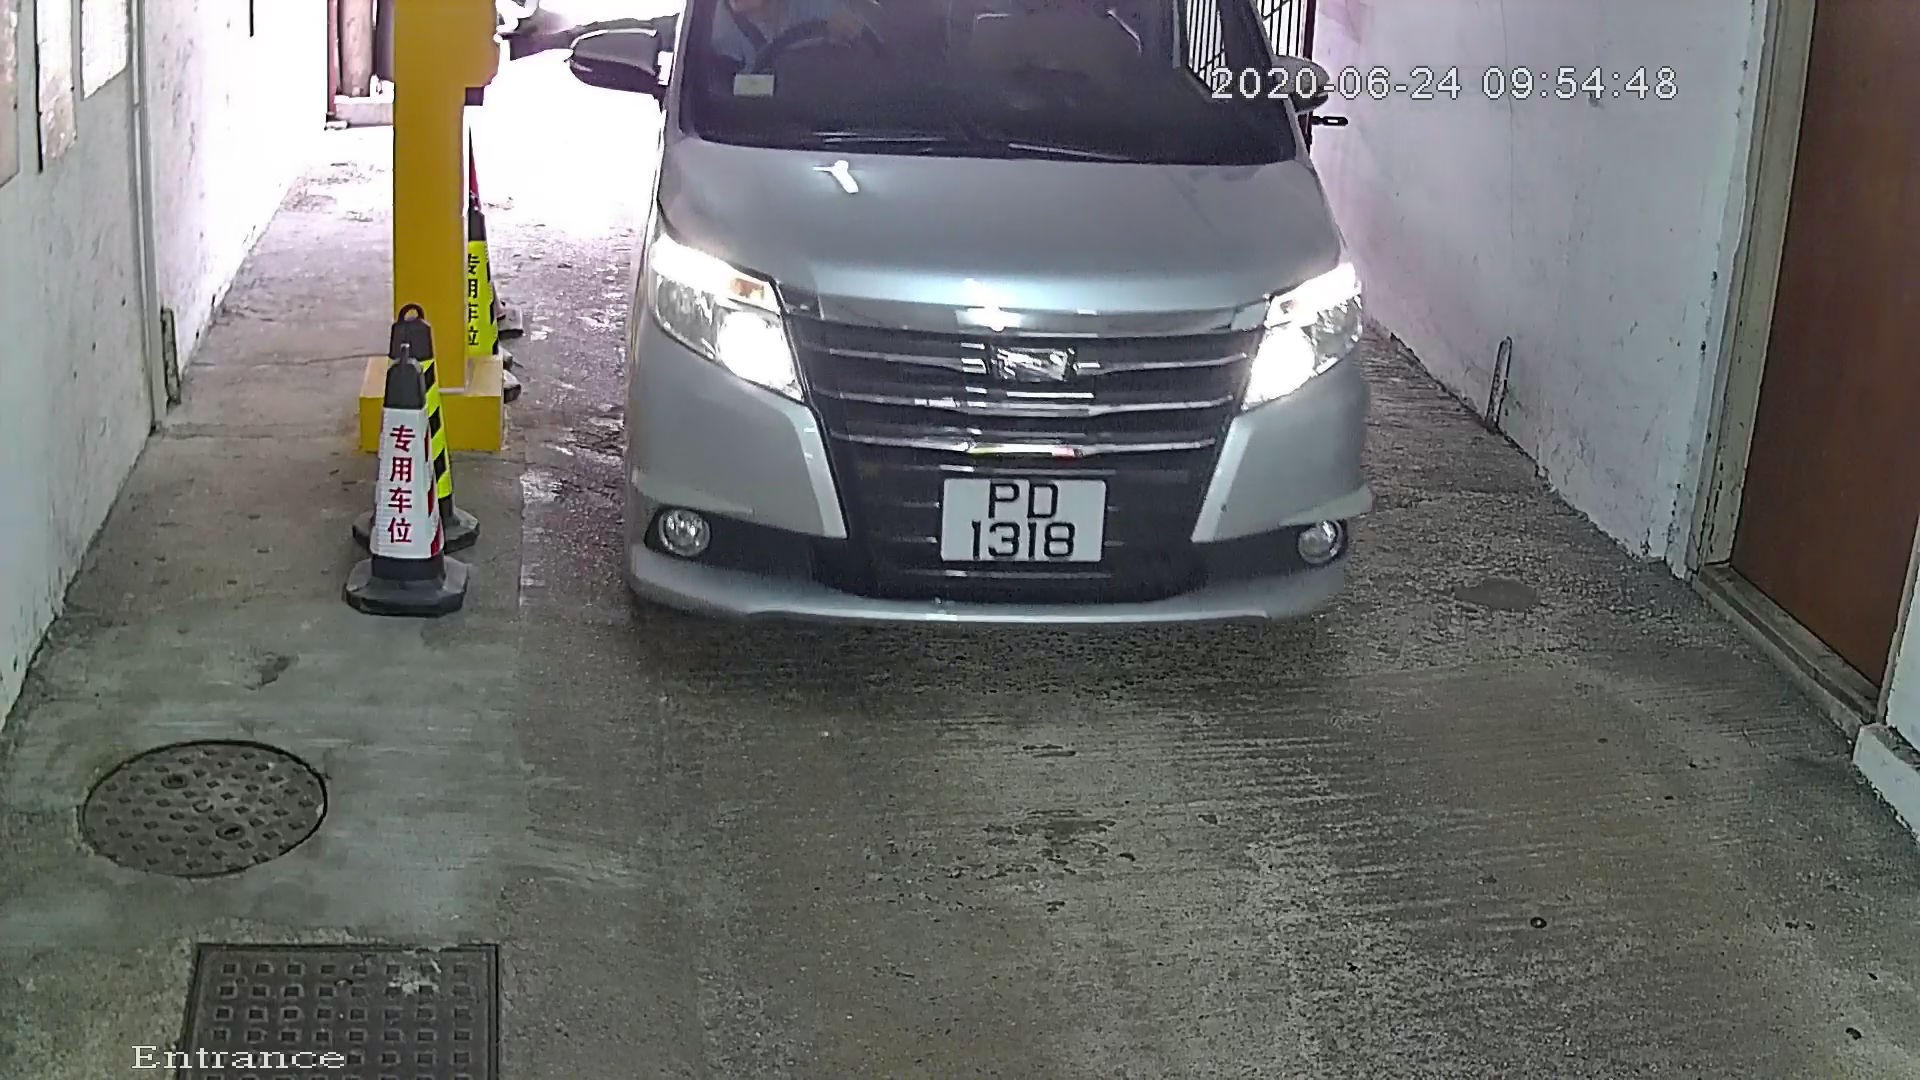Car: (555, 1, 1416, 704)
License Plate: (936, 471, 1114, 576)
